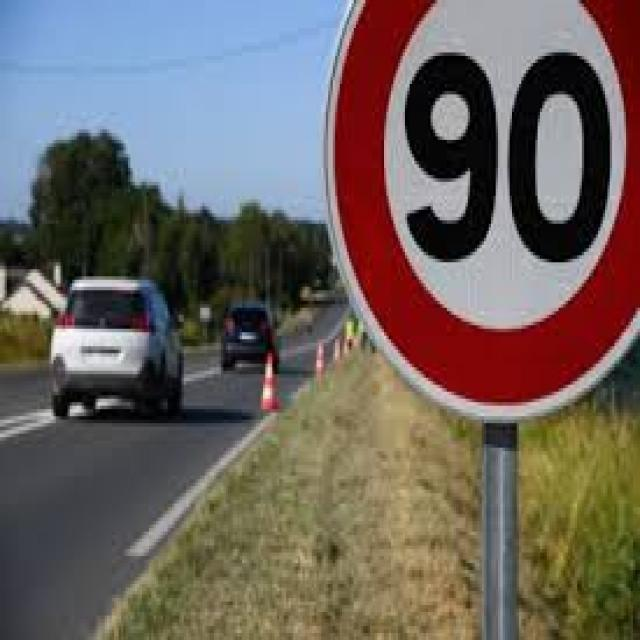speed_90: (323, 0, 640, 421)
